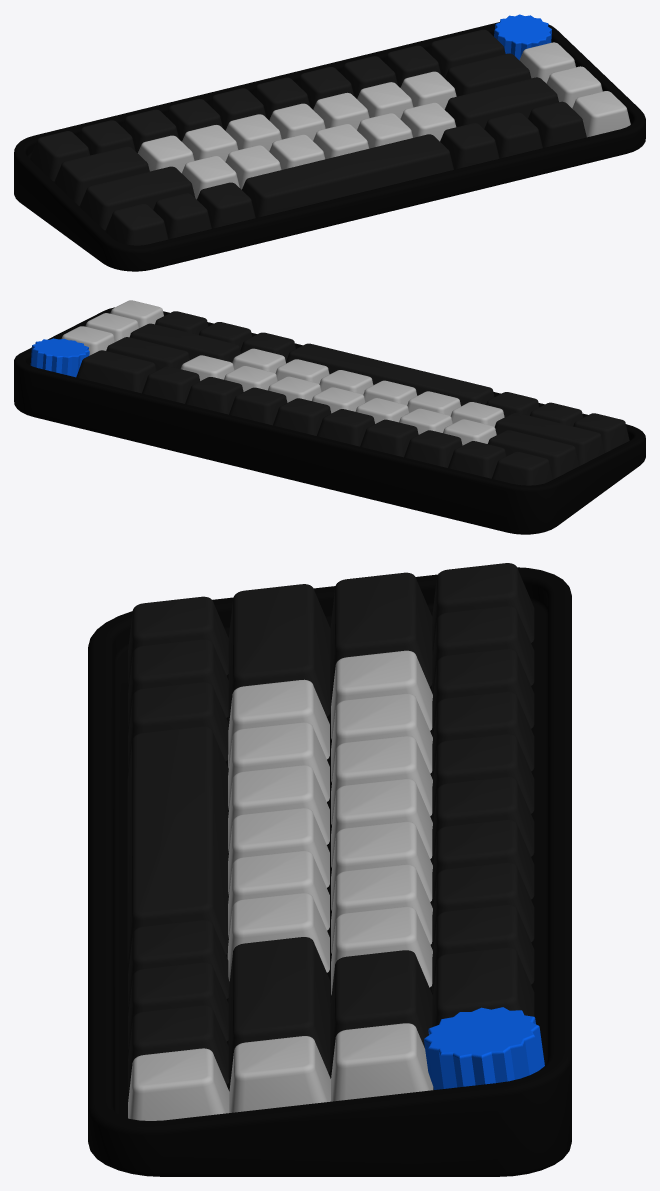
The model's file is keyboard.gltf.
3 views of the same model, one above another, from view 1: azimuth 30°, elevation 25°; view 2: azimuth 150°, elevation 25°; view 3: azimuth 270°, elevation 25° (orthographic). The views are drawn at different scales.
Visible parts, largest first — view 1: Cube.011; view 2: Cube.011; view 3: Cube.011.
Part boxes in pixels (x1=…): Cube.011: x1=14, y1=14, x2=645, y2=271; Cube.011: x1=14, y1=300, x2=645, y2=534; Cube.011: x1=88, y1=563, x2=571, y2=1176.
Size of the model in its own units: 3.66 by 0.3794 by 1.43.
